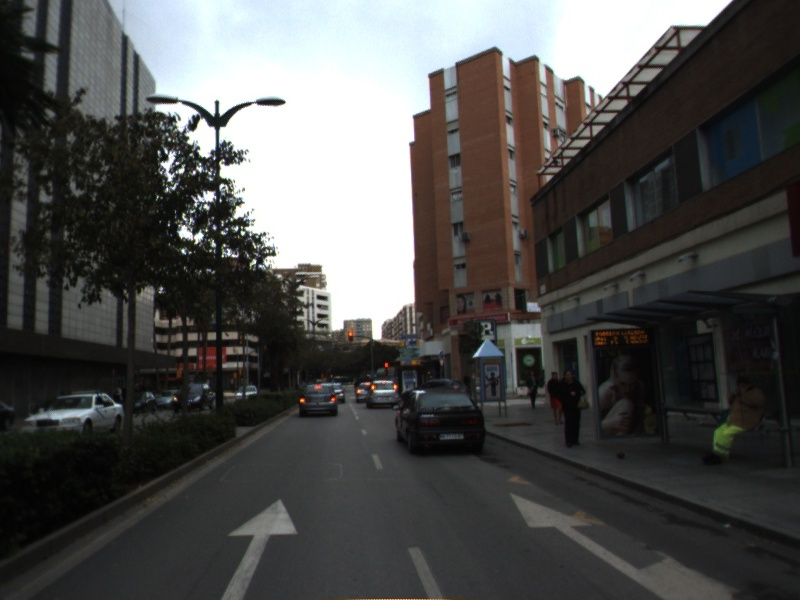STRAIGHT: (219, 497, 300, 600)
STRAIGHT_RIGHT: (508, 490, 744, 600)
